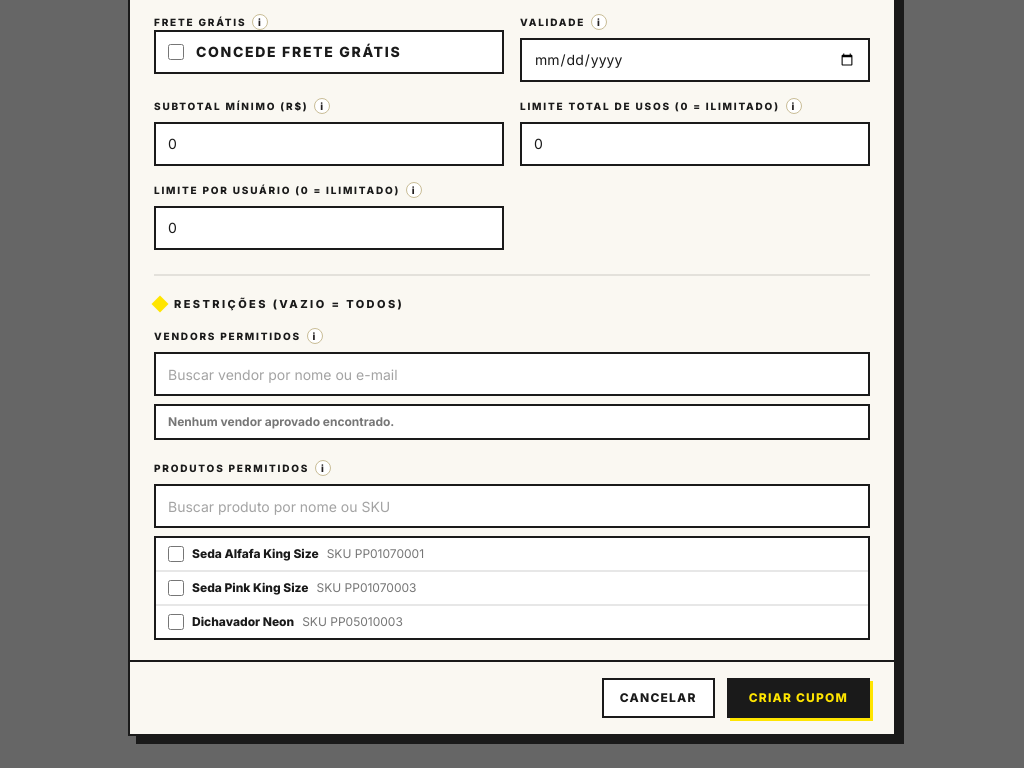
Test case: CouponFormModal - seletor de produtos permitidos › diz que não encontrou quando o catálogo realmente não tem o termo
The width and height of the screenshot is (1024, 768).
(page scrolled)
Expected: the text "Dichavador Neon" is shown, [192,614,294,630]
Type "inexistente" into the search field with placeholder "Buscar produto por nome ou SKU". click: [512, 506]
box: [154,484,870,528]
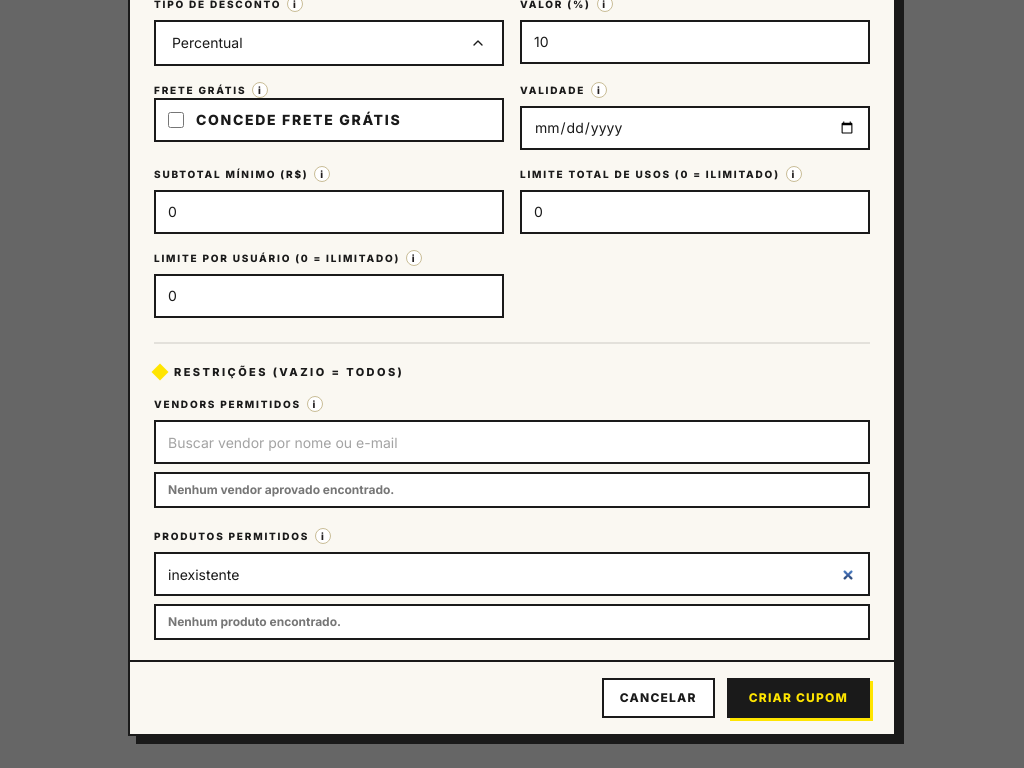
Result: the text "Nenhum produto encontrado." is shown at [168,614,341,629]
